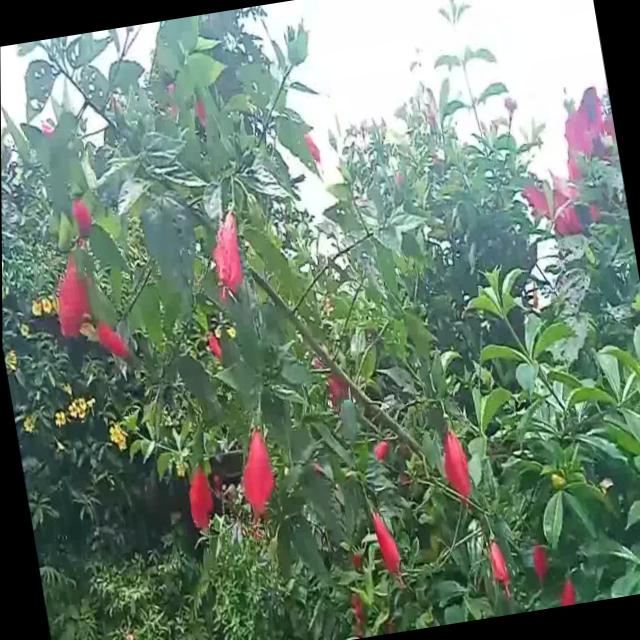Flower: (41, 238, 95, 349), (202, 203, 255, 298), (230, 418, 279, 516), (429, 411, 478, 509), (362, 498, 405, 584), (94, 312, 144, 382), (184, 460, 219, 537), (485, 532, 511, 592), (527, 545, 555, 582)
